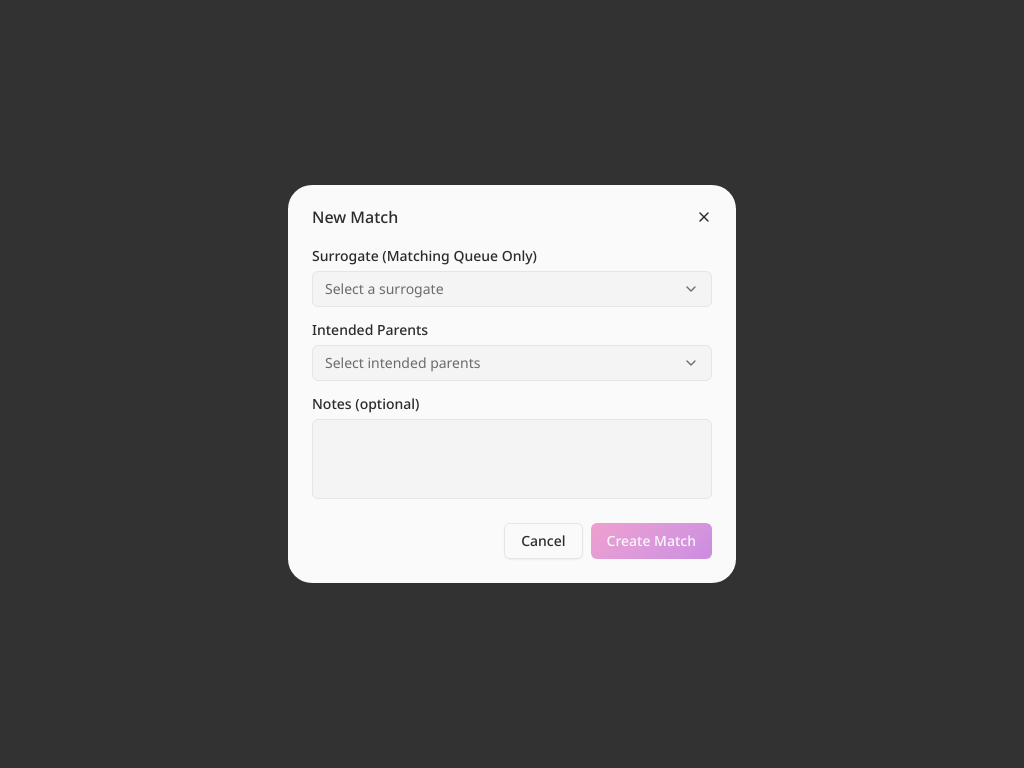
Test: NewMatchDialog › shows a sanitized error when the API fails
The image size is (1024, 768).
Press the mouse on the dropdown named "surrogate (matching queue only)" at (384, 288), box [312, 271, 712, 307]
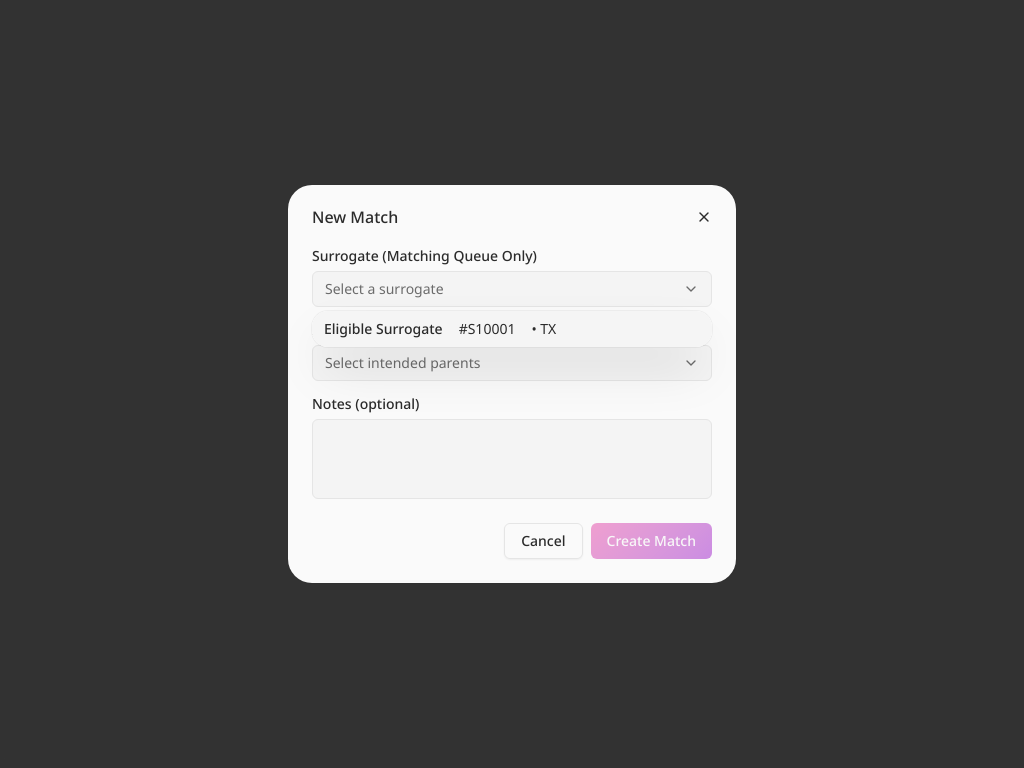
Click the option "Eligible Surrogate #S10001 • TX" at (512, 329), box [312, 311, 712, 347]
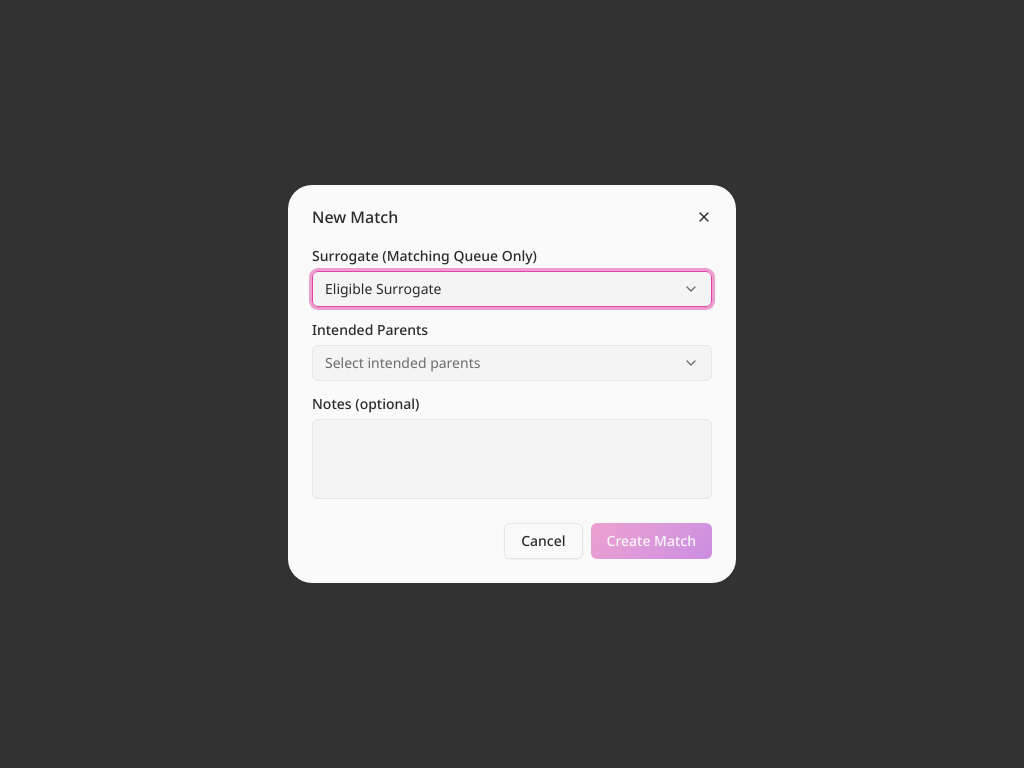
Expected: the list is gone
Press the mouse on the dropdown labelled "Select intended parents ▼" at (403, 362), box [312, 345, 712, 381]
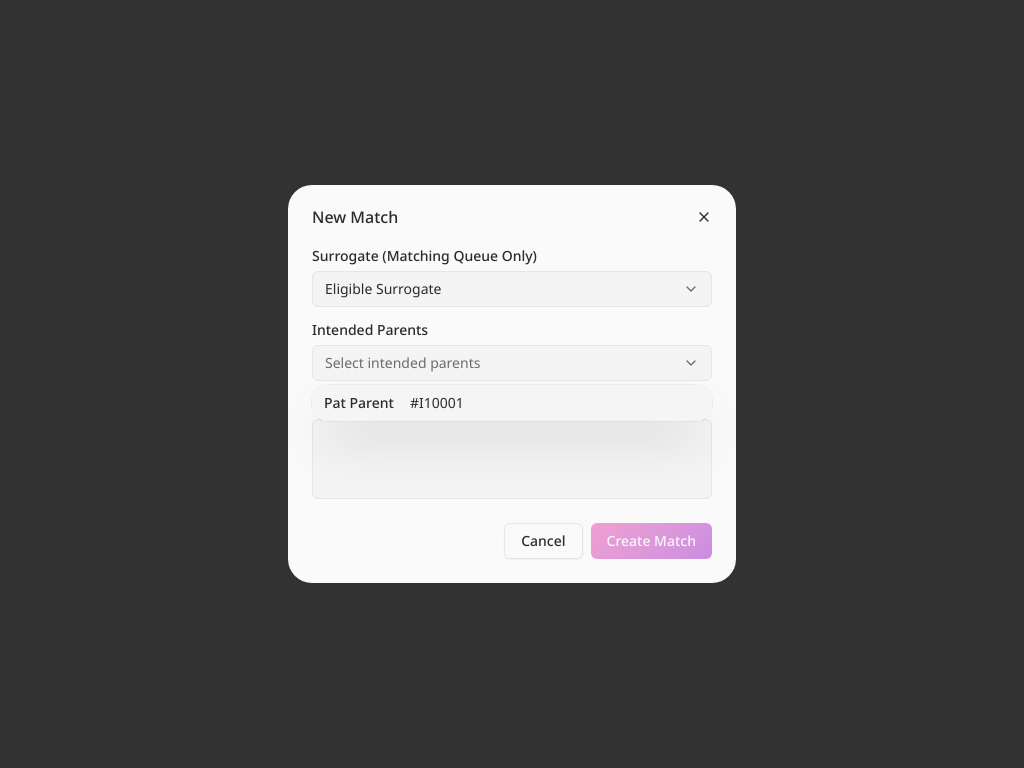
Click the option "Pat Parent #I10001" at (359, 402), box [312, 385, 712, 421]
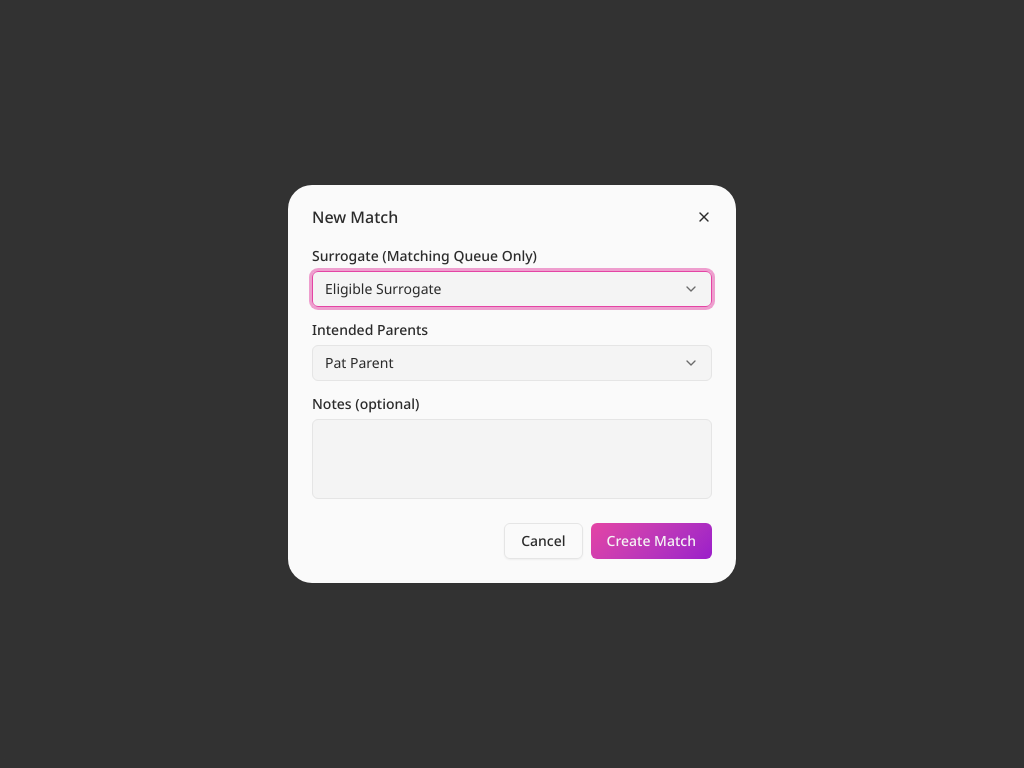
Expected: the list is gone
Click the button "Create Match" at (651, 541), box [590, 523, 712, 559]
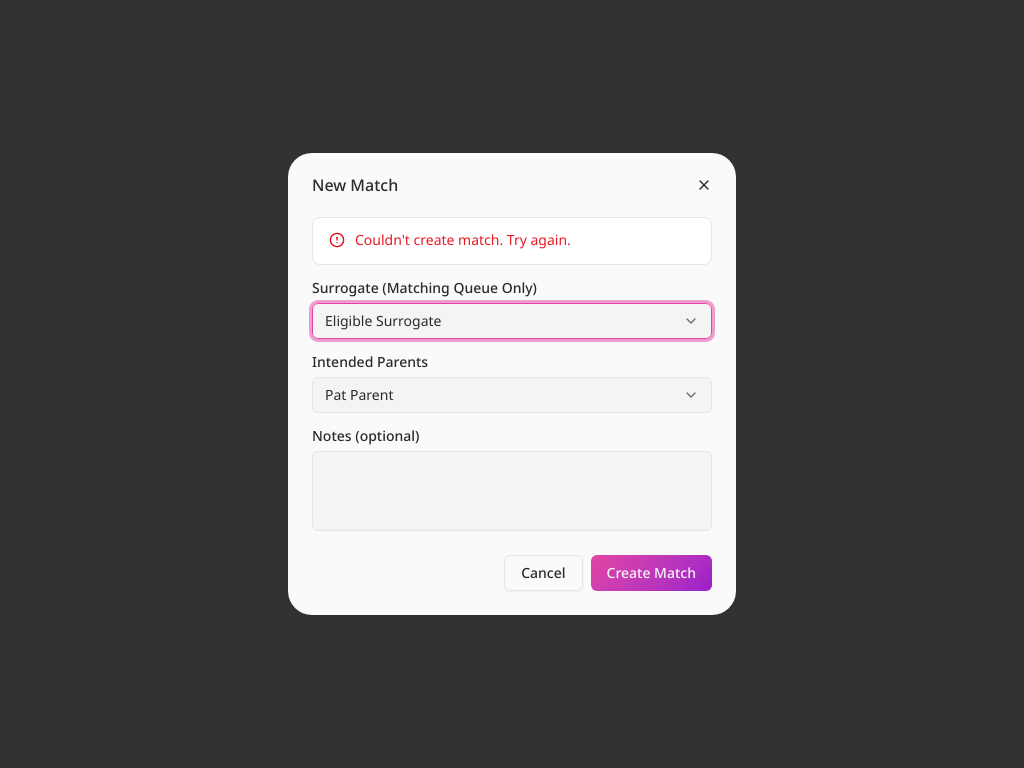
Expected: the text "Couldn't create match. Try again." is shown, [355, 230, 571, 249]
